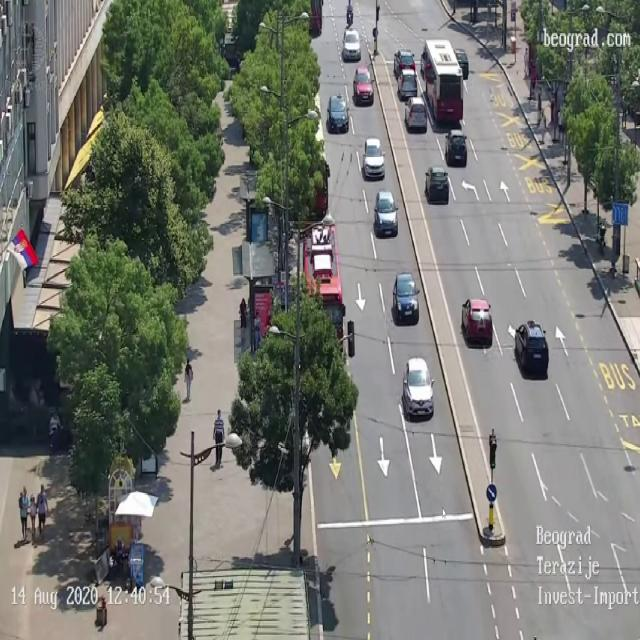bus: (304, 223, 343, 359), (420, 38, 464, 123), (304, 0, 322, 33)
car: (402, 356, 434, 421), (514, 319, 549, 373), (461, 298, 493, 347), (392, 271, 420, 325), (374, 190, 398, 237), (362, 137, 385, 179), (424, 166, 449, 204), (445, 129, 467, 167), (352, 64, 372, 104), (342, 24, 361, 61), (330, 91, 345, 132), (405, 98, 426, 127), (392, 50, 416, 75), (398, 71, 418, 98), (453, 48, 468, 80)
